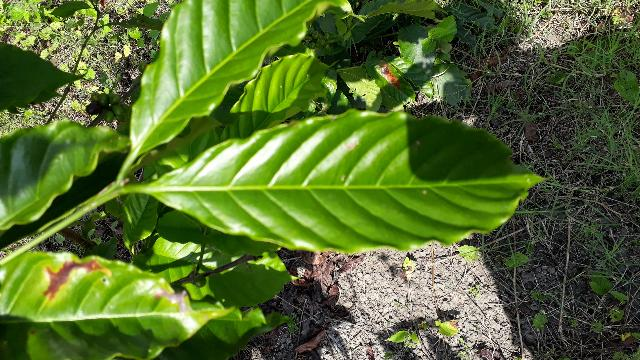healthy: (148, 113, 542, 255)
